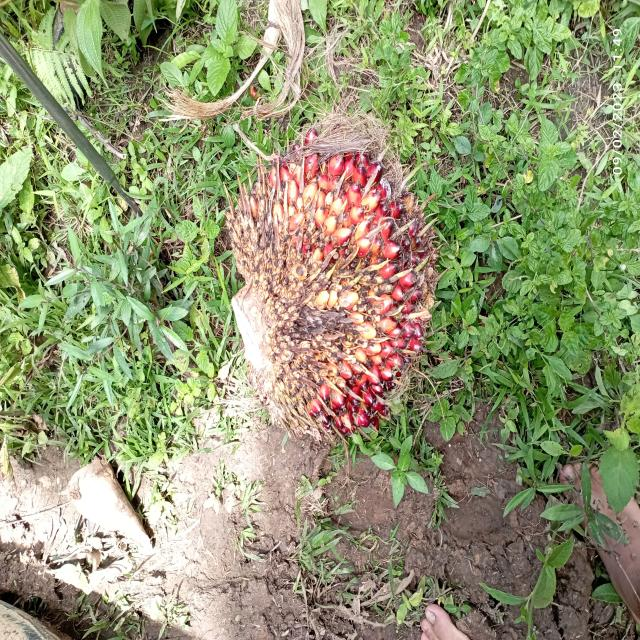fraksi 3: (210, 59, 475, 488)
